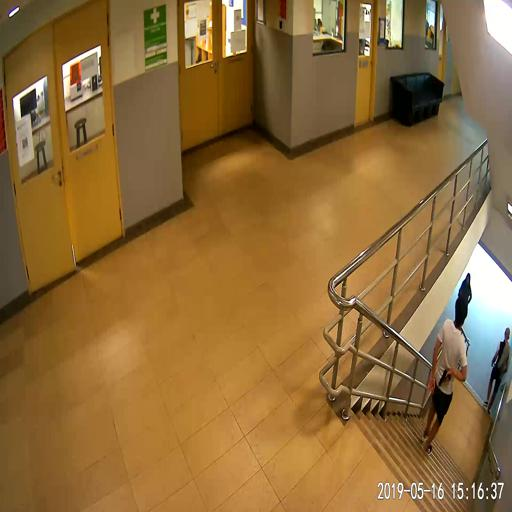pistol: (438, 369, 451, 386)
